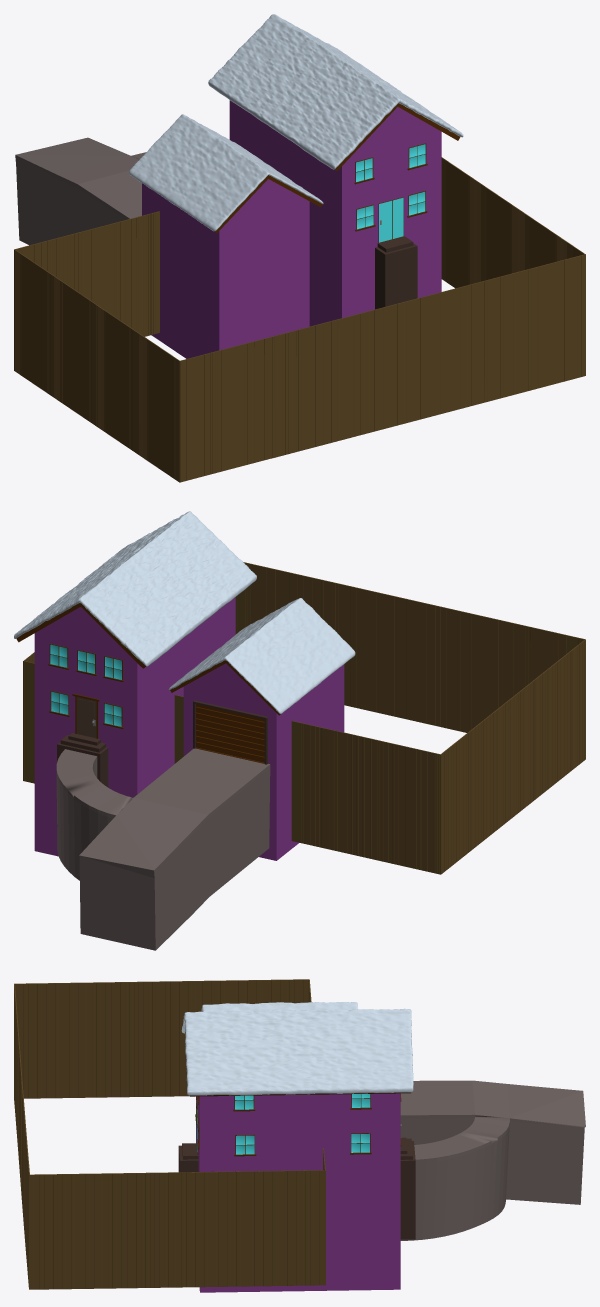
Rendered from garrisonshouse_compressed.glb.
3 renders of one model, top to bottom at view 1: azimuth 30°, elevation 25°; view 2: azimuth 150°, elevation 25°; view 3: azimuth 270°, elevation 25°, orthographic. The views are drawn at different scales.
Parts seen in each view (by area): view 1: Cube.872, Cube.883, Cube.897, Cube.878, Cube.879, Cube.880; view 2: Cube.872, Cube.878, Cube.883, Cube.897, Cube.879, Cube.880, Cube.893; view 3: Cube.872, Cube.883, Cube.878, Cube.897, Cube.880, Cube.879.
Part boxes in pixels (left/top/right/bottom): Cube.872: left=14, top=157, right=585, bottom=482; Cube.883: left=142, top=100, right=441, bottom=358; Cube.897: left=129, top=14, right=463, bottom=231; Cube.878: left=15, top=137, right=146, bottom=245; Cube.879: left=187, top=103, right=460, bottom=242; Cube.880: left=375, top=236, right=417, bottom=309; Cube.872: left=23, top=562, right=585, bottom=874; Cube.878: left=56, top=748, right=270, bottom=950; Cube.883: left=34, top=597, right=344, bottom=860; Cube.897: left=14, top=511, right=355, bottom=713; Cube.879: left=16, top=603, right=280, bottom=763; Cube.880: left=57, top=700, right=267, bottom=826; Cube.893: left=77, top=697, right=96, bottom=738; Cube.872: left=14, top=979, right=325, bottom=1289; Cube.883: left=196, top=1093, right=400, bottom=1292; Cube.878: left=400, top=1080, right=585, bottom=1240; Cube.897: left=181, top=1002, right=413, bottom=1095; Cube.880: left=178, top=1137, right=415, bottom=1239; Cube.879: left=185, top=1032, right=410, bottom=1156.
Size of the model in its own units: 4.87 by 2.99 by 6.01.
